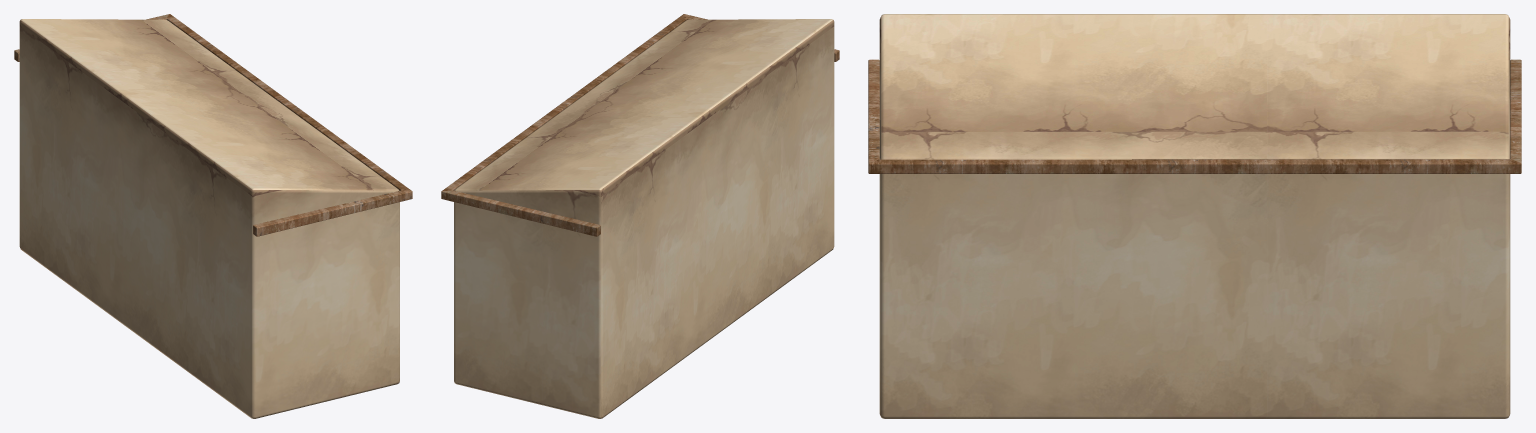
Rendered from RC_Small_Building_10_Building_02.gltf.
The picture shows the model from 3 angles, left to right: view 1: azimuth 30°, elevation 25°; view 2: azimuth 150°, elevation 25°; view 3: azimuth 270°, elevation 25°; orthographic projection. The views are drawn at different scales.
Parts seen in each view (by area): view 1: RC_Small_Building_10_Building_02(Clone); view 2: RC_Small_Building_10_Building_02(Clone); view 3: RC_Small_Building_10_Building_02(Clone).
Part boxes in pixels (x1=…): RC_Small_Building_10_Building_02(Clone): x1=14, y1=14, x2=412, y2=418; RC_Small_Building_10_Building_02(Clone): x1=441, y1=14, x2=839, y2=418; RC_Small_Building_10_Building_02(Clone): x1=868, y1=14, x2=1521, y2=418.
Size of the model in its own units: 3.12 by 4.41 by 8.4.
Materials: 2 (2 with a texture image).
